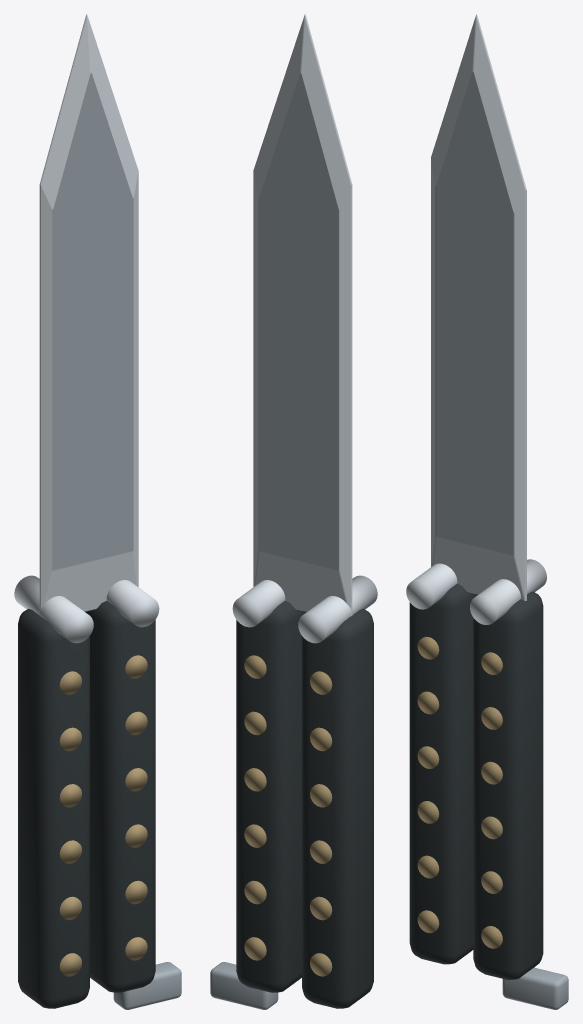
Rendered from knife_03.glb.
3 renders of one model, left to right at view 1: azimuth 30°, elevation 25°; view 2: azimuth 150°, elevation 25°; view 3: azimuth 330°, elevation 25°, orthographic. The views are drawn at different scales.
Visible parts, largest first — view 1: Blade, Butterfly split handle -1, Butterfly split handle 1, Hinge pivot, Latch, Hinge pivot.001, Handle through insert.011, Handle through insert.008, Handle through insert.009, Handle through insert.006, Handle through insert.005, Handle through insert.007 (+6 smaller); view 2: Blade, Butterfly split handle -1, Butterfly split handle 1, Hinge pivot, Latch, Hinge pivot.001, Handle through insert.011, Handle through insert.008, Handle through insert.009, Handle through insert.006, Handle through insert.005, Handle through insert.007 (+6 smaller); view 3: Blade, Butterfly split handle 1, Butterfly split handle -1, Hinge pivot.001, Latch, Hinge pivot, Handle through insert.004, Handle through insert.005, Handle through insert.009, Handle through insert.002, Handle through insert.008, Handle through insert.010 (+6 smaller).
Boxes of the visible parts, x1,y1,x2,y2 form: Blade: [39, 14, 138, 615]; Butterfly split handle -1: [18, 608, 89, 1008]; Butterfly split handle 1: [85, 600, 155, 992]; Hinge pivot: [14, 575, 93, 643]; Latch: [113, 962, 181, 1009]; Hinge pivot.001: [106, 580, 159, 627]; Handle through insert.011: [125, 655, 147, 678]; Handle through insert.008: [125, 824, 147, 847]; Handle through insert.009: [125, 768, 147, 791]; Handle through insert.006: [125, 937, 147, 960]; Handle through insert.005: [59, 671, 81, 694]; Handle through insert.007: [125, 880, 147, 904]; Blade: [253, 14, 352, 615]; Butterfly split handle -1: [302, 608, 373, 1008]; Butterfly split handle 1: [236, 600, 306, 992]; Hinge pivot: [298, 575, 377, 643]; Latch: [210, 962, 278, 1009]; Hinge pivot.001: [232, 580, 285, 627]; Handle through insert.011: [244, 655, 266, 678]; Handle through insert.008: [244, 824, 266, 847]; Handle through insert.009: [244, 768, 266, 791]; Handle through insert.006: [244, 937, 266, 960]; Handle through insert.005: [310, 671, 332, 694]; Handle through insert.007: [244, 880, 266, 904]; Blade: [431, 14, 526, 600]; Butterfly split handle 1: [473, 591, 543, 979]; Butterfly split handle -1: [409, 583, 478, 964]; Hinge pivot.001: [470, 559, 546, 624]; Latch: [502, 967, 568, 1009]; Hinge pivot: [406, 563, 457, 609]; Handle through insert.004: [417, 691, 439, 714]; Handle through insert.005: [417, 636, 439, 659]; Handle through insert.009: [481, 761, 502, 784]; Handle through insert.002: [417, 801, 439, 823]; Handle through insert.008: [481, 816, 502, 839]; Handle through insert.010: [481, 707, 502, 729].
Bounding box in the file's own units: 0.0635 × 0.4088 × 0.038.
